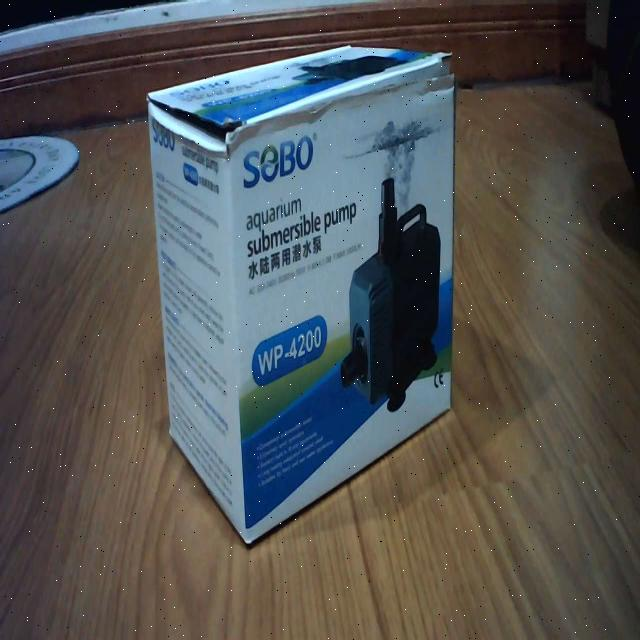SOBO_WP_4200: (142, 33, 462, 554)
